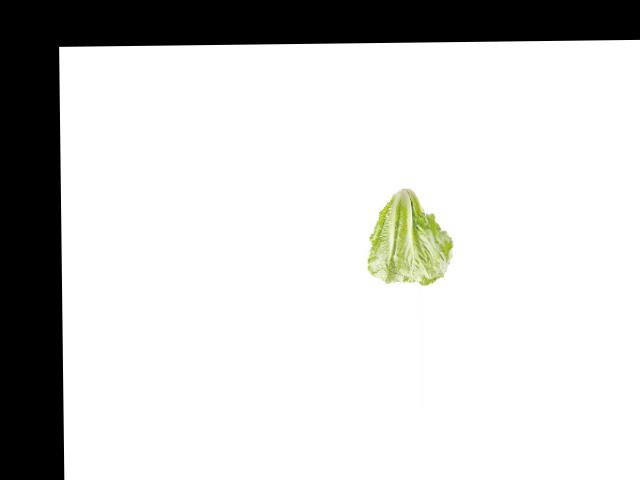lettuce: (369, 182, 456, 287)
